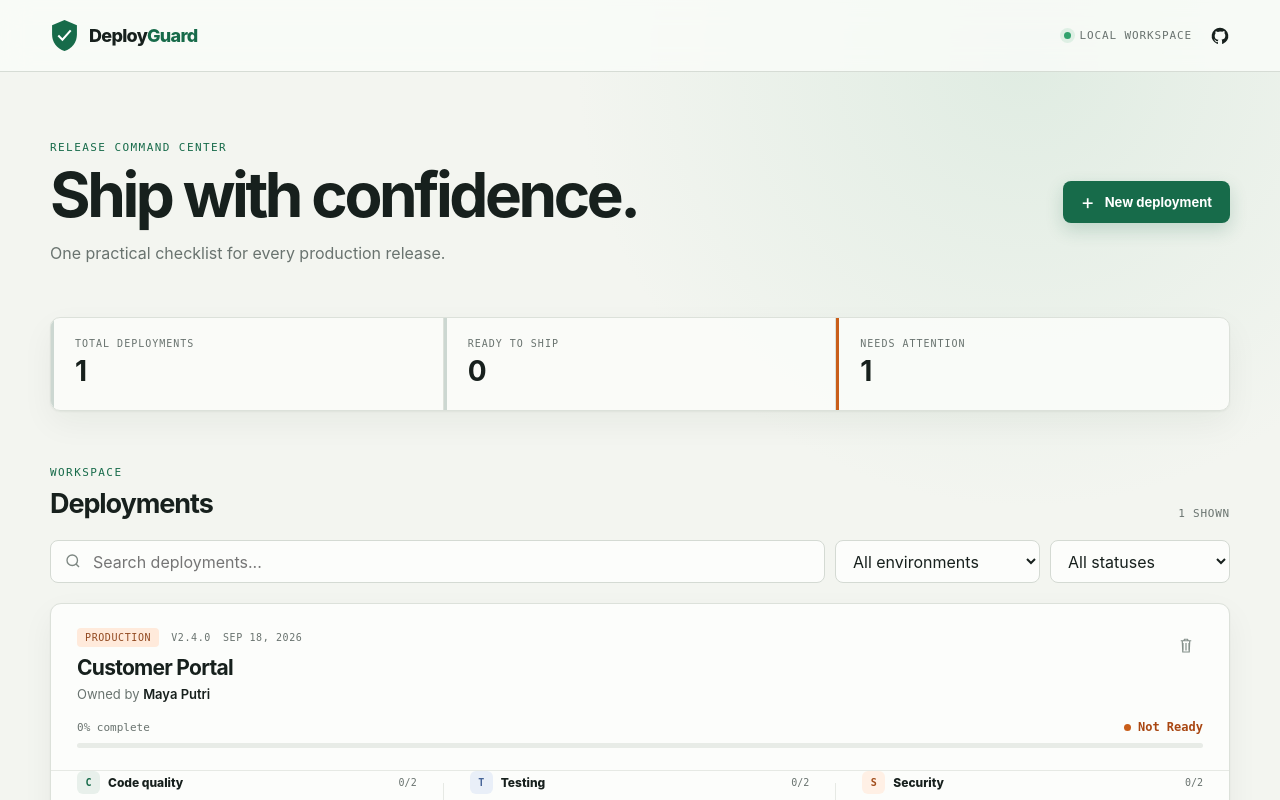
Scenario: DeployGuard application › asks for confirmation before deleting a deployment
Step 1. Click the button named "Delete Customer Portal" → (1186, 646), box [1168, 628, 1203, 663]
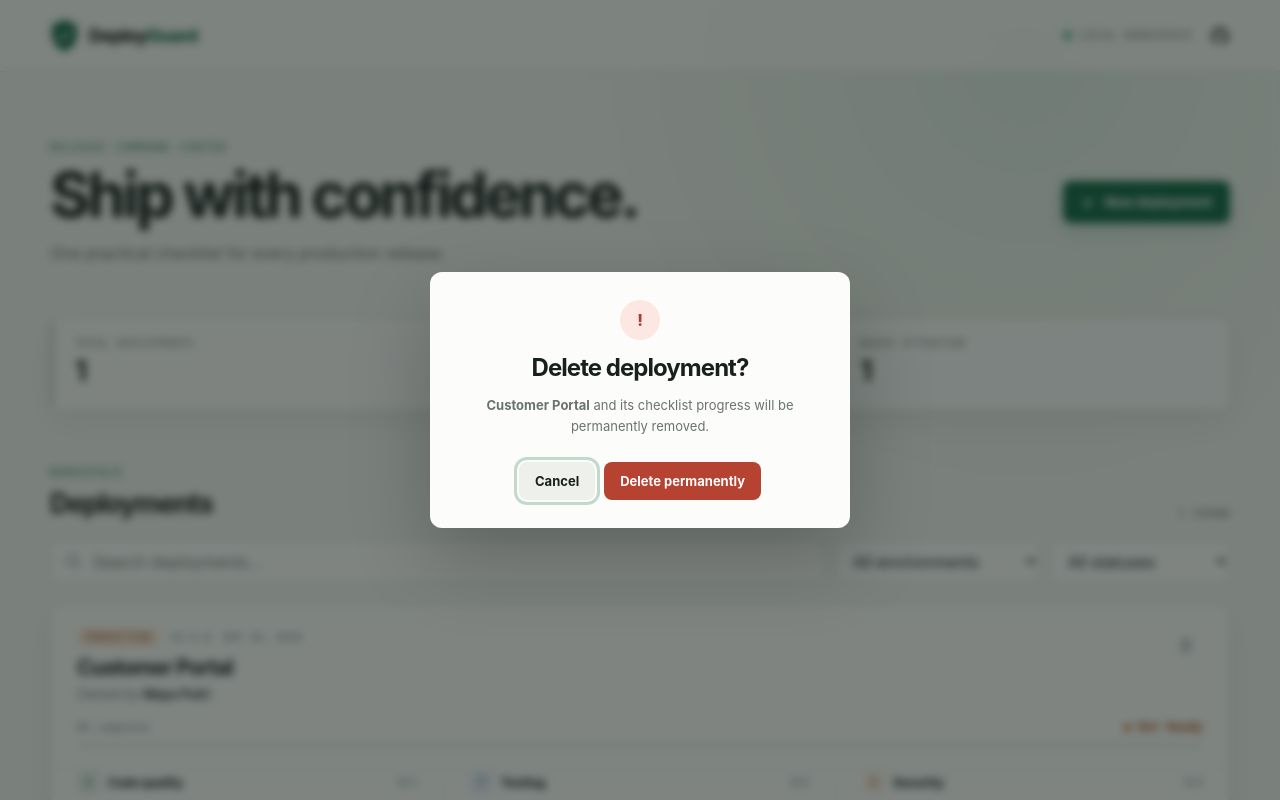
expect the dialog "Delete deployment?" is shown: met, box [430, 272, 850, 528]
Step 2. Click the button "Cancel" → (557, 481), box [519, 462, 595, 500]
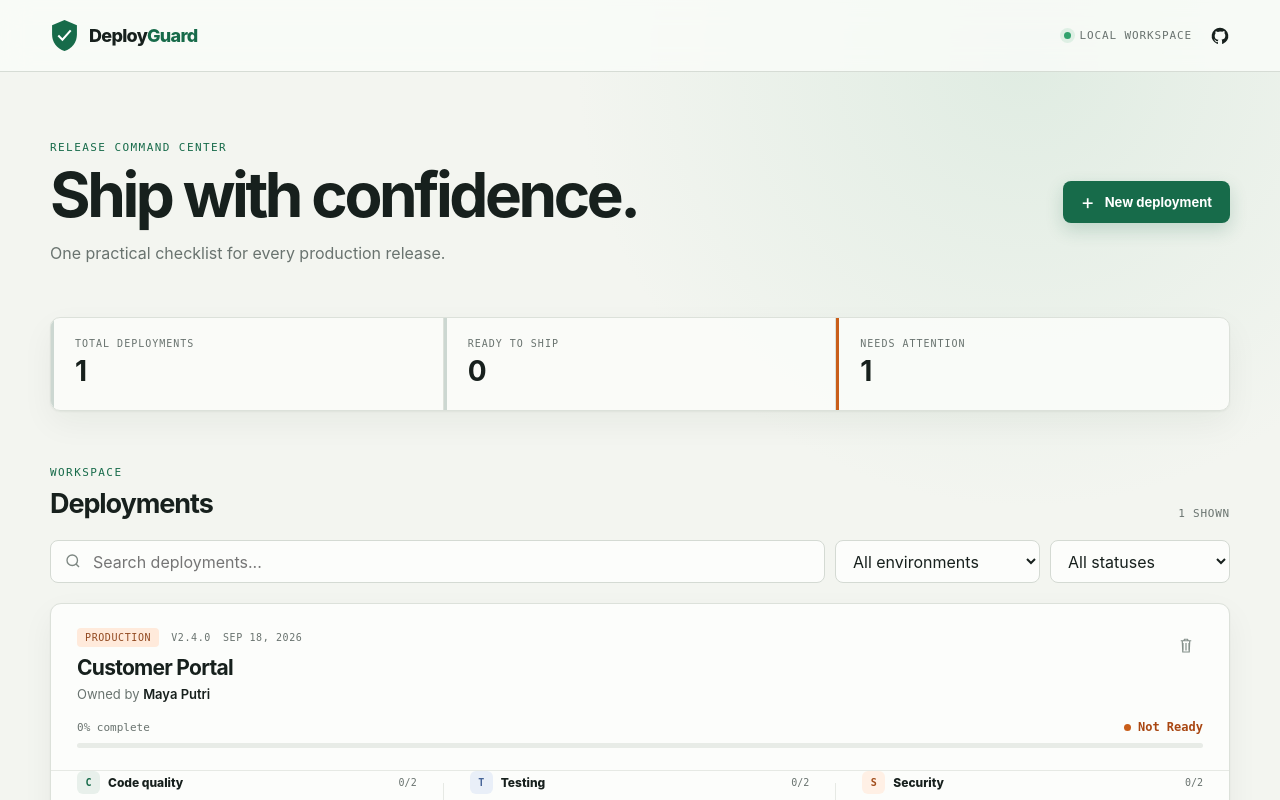
expect the heading "Customer Portal" is shown: met, box [77, 655, 233, 680]
Step 3. Click the button named "Delete Customer Portal" → (1186, 646), box [1168, 628, 1203, 663]
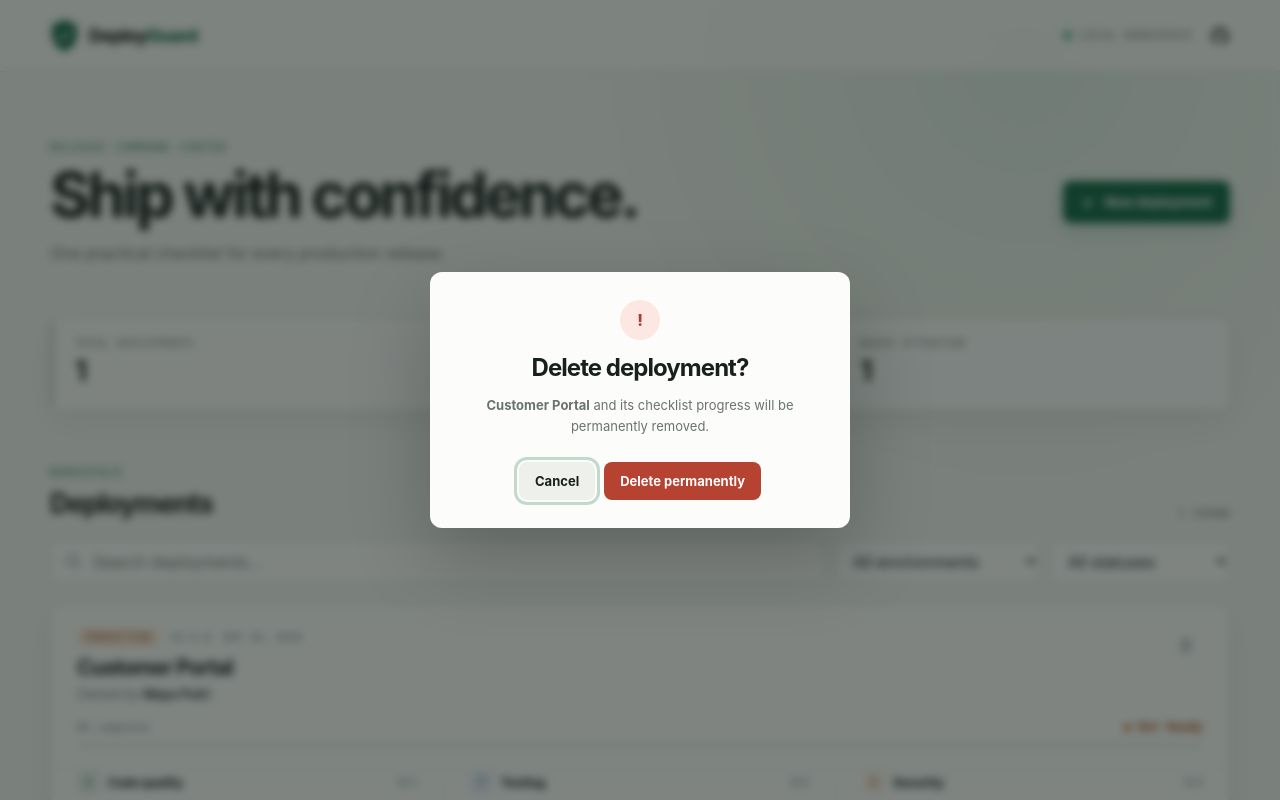
Step 4. Click the button "Delete permanently" → (683, 481), box [604, 462, 761, 500]
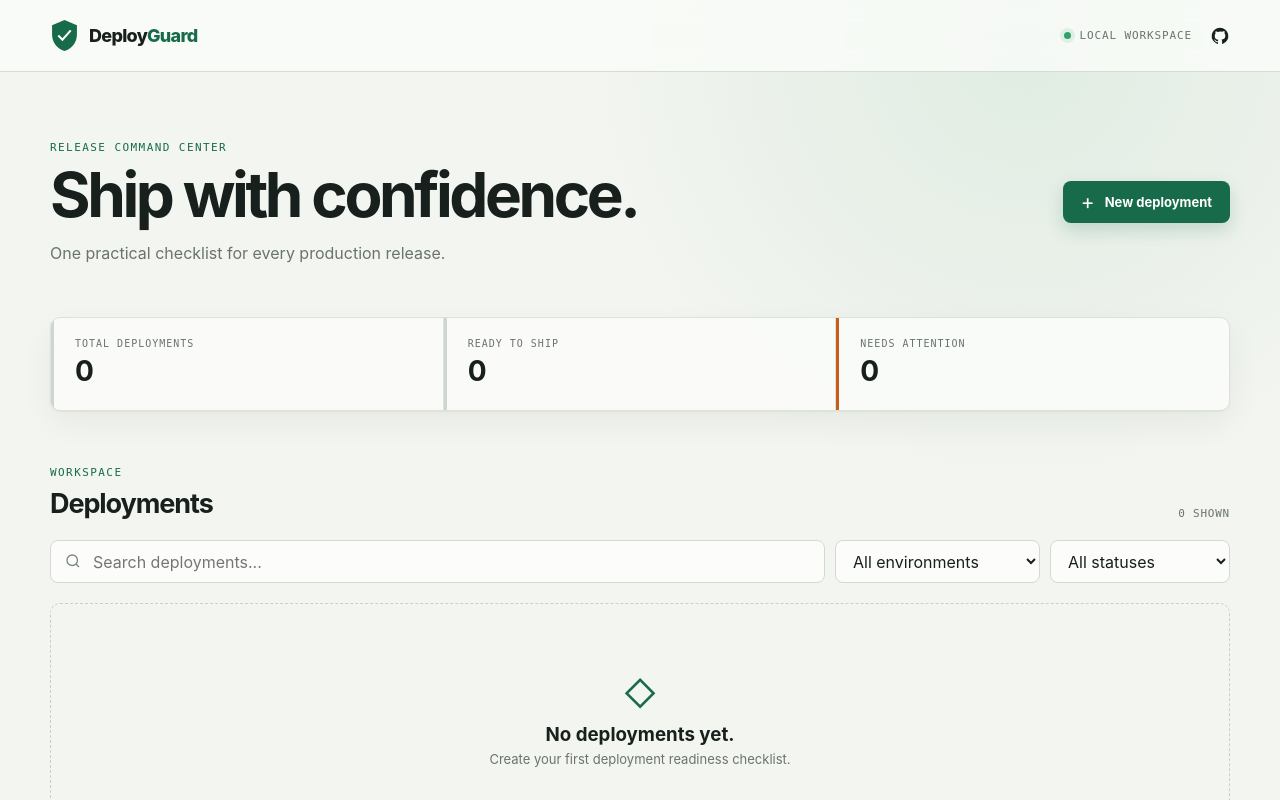
expect the heading "No deployments yet." is shown: met, box [546, 723, 734, 746]
